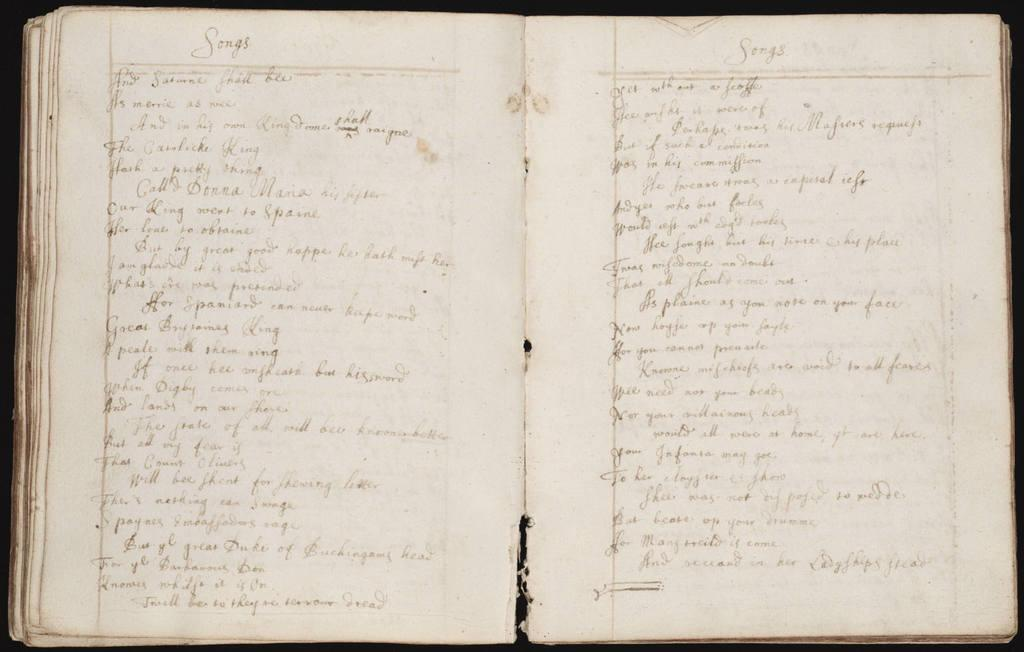book: (6, 14, 1019, 647)
